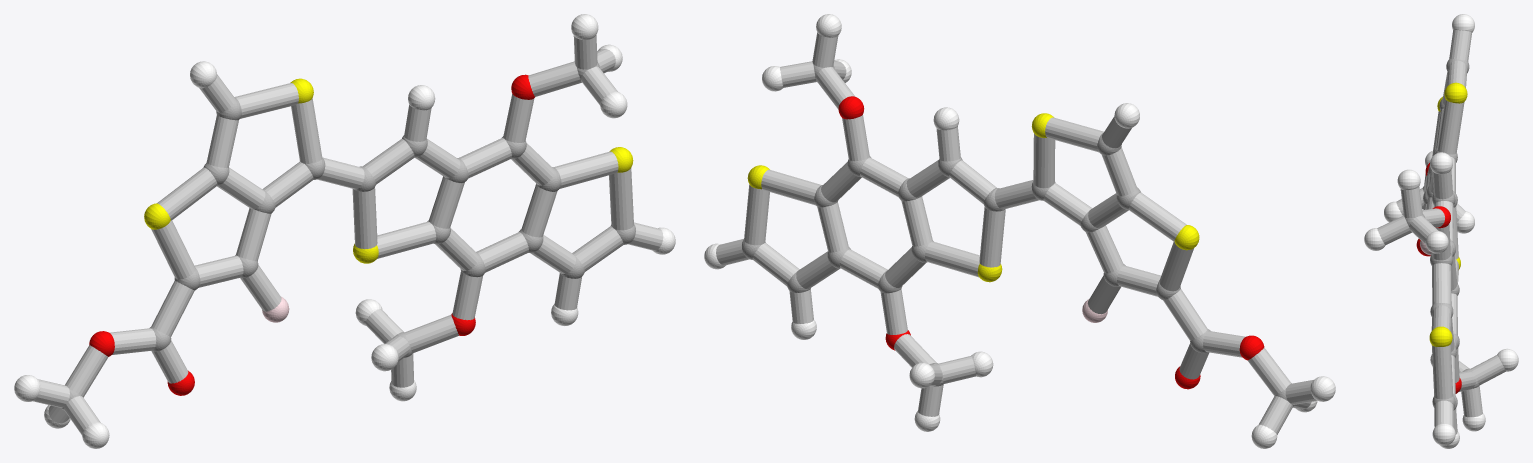
The model's file is color.glb.
3 views of the same model, side by side, from view 1: azimuth 30°, elevation 25°; view 2: azimuth 150°, elevation 25°; view 3: azimuth 270°, elevation 25° (orthographic). The views are drawn at different scales.
Visible parts, largest first — view 1: grp15205, grp8689, grp1, grp7241, grp13395; view 2: grp15205, grp8689, grp1, grp7241, grp13395; view 3: grp15205, grp8689, grp1, grp7241, grp13395.
Boxes of the visible parts, x1,y1,x2,y2 form: grp15205: [33, 35, 663, 435]; grp8689: [14, 14, 675, 448]; grp1: [61, 62, 635, 410]; grp7241: [144, 78, 633, 263]; grp13395: [89, 74, 534, 395]; grp15205: [716, 32, 1317, 434]; grp8689: [704, 14, 1335, 448]; grp1: [742, 64, 1295, 406]; grp7241: [747, 113, 1199, 282]; grp13395: [838, 96, 1264, 389]; grp15205: [1377, 30, 1505, 434]; grp8689: [1364, 14, 1518, 448]; grp1: [1405, 59, 1479, 410]; grp7241: [1429, 82, 1467, 346]; grp13395: [1416, 163, 1461, 393].
Size of the model in its own units: 16.77 by 9.49 by 4.02.
